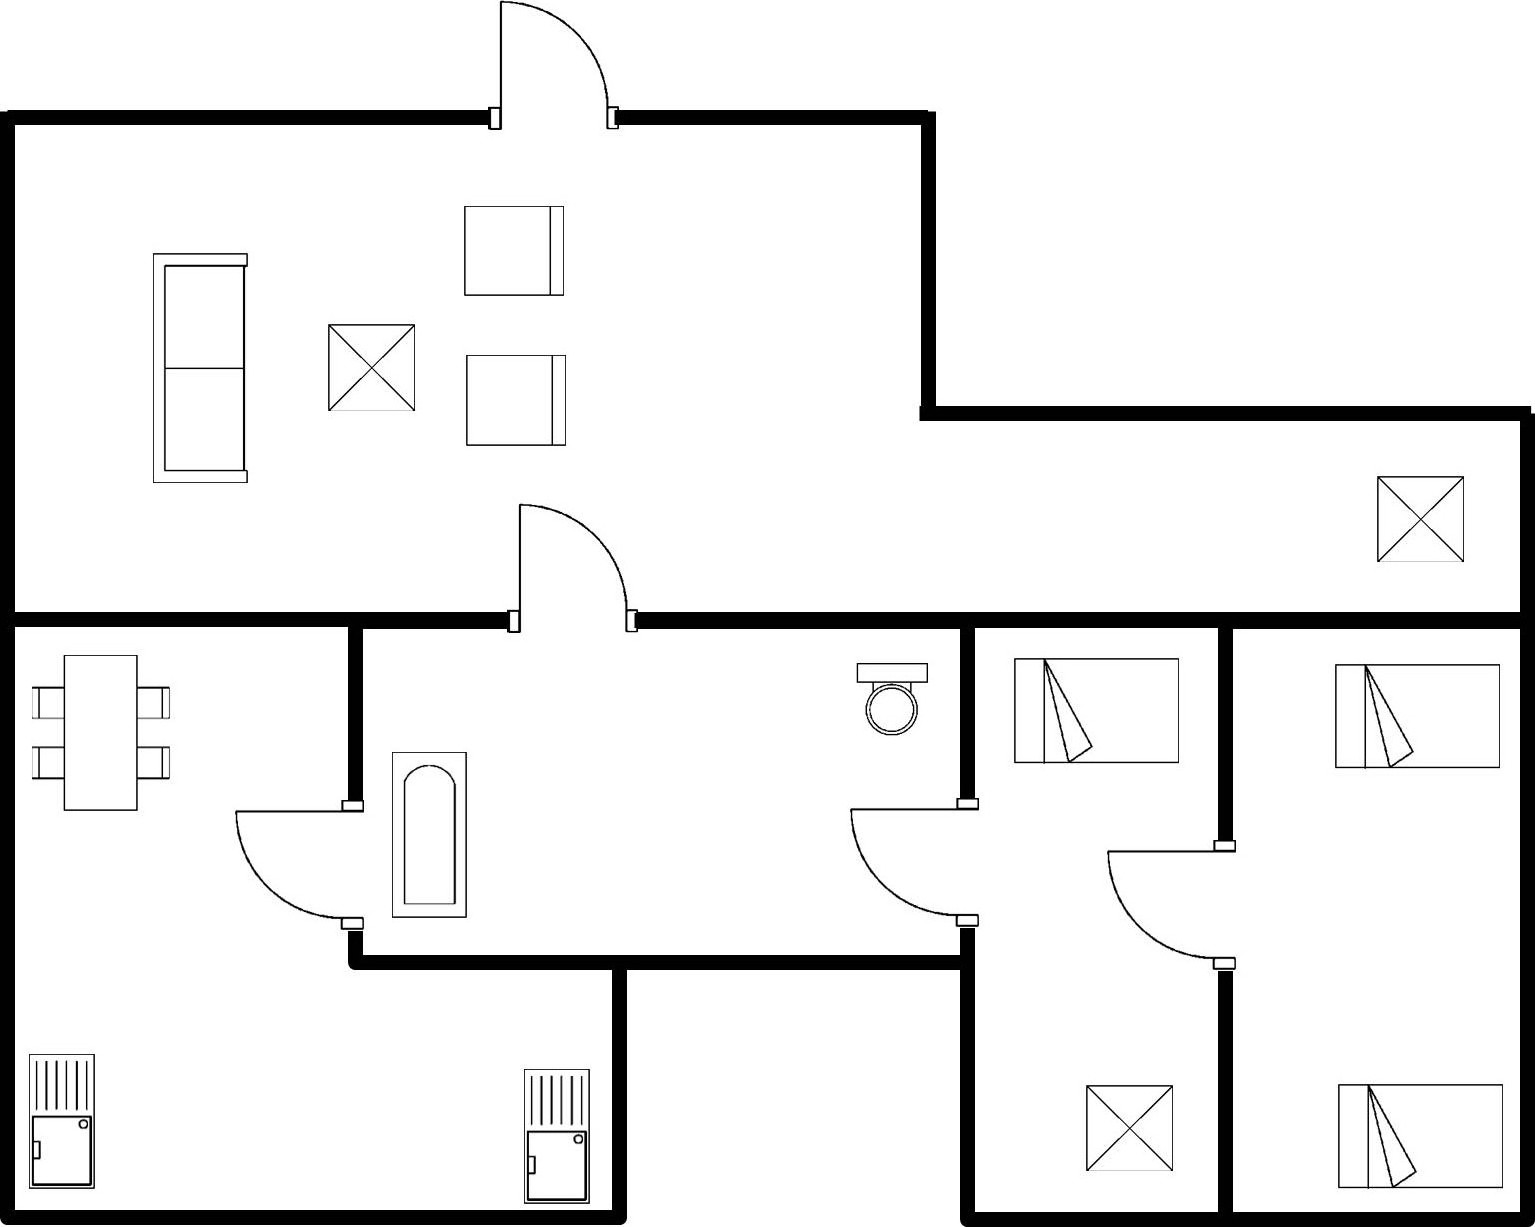bed: (1006, 647, 1190, 772), (1326, 654, 1509, 778), (1330, 1076, 1509, 1197)
coffee_table: (1365, 466, 1477, 572), (1070, 1078, 1182, 1178), (319, 317, 422, 418)
dining_table: (27, 644, 181, 820)
large_sink: (849, 654, 934, 743)
large_sofa: (141, 241, 258, 494)
sink: (21, 1045, 108, 1201), (512, 1060, 600, 1207)
small_sofa: (457, 344, 576, 459), (455, 200, 576, 303)
tub: (383, 744, 475, 925)
